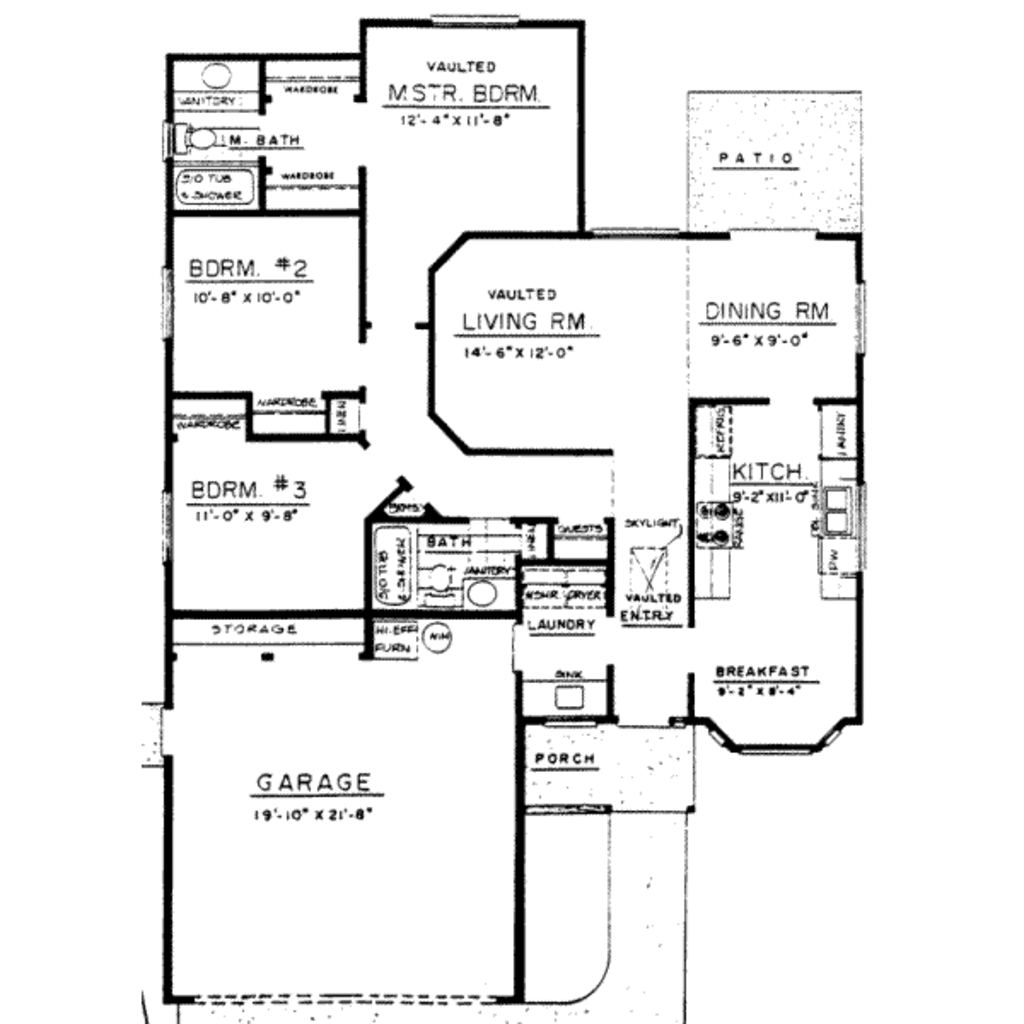large_sink: (163, 111, 236, 159), (418, 565, 459, 607)
small_sink: (180, 56, 259, 95)
tub: (161, 154, 277, 213), (371, 514, 417, 618)
twin_sink: (813, 484, 871, 545)
window: (710, 721, 858, 765), (836, 280, 872, 353), (590, 219, 680, 245), (423, 11, 534, 29)
